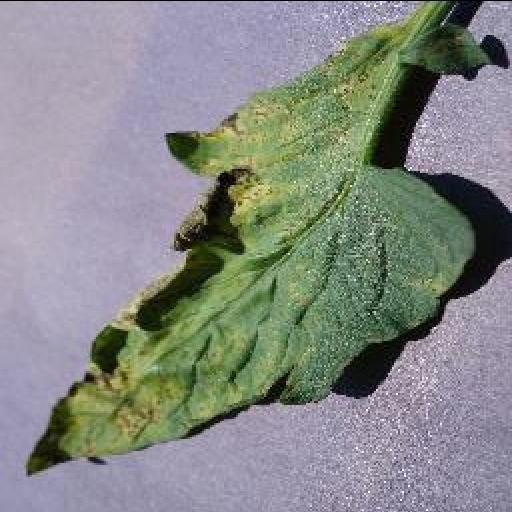disease_tomato: (20, 26, 478, 476)
